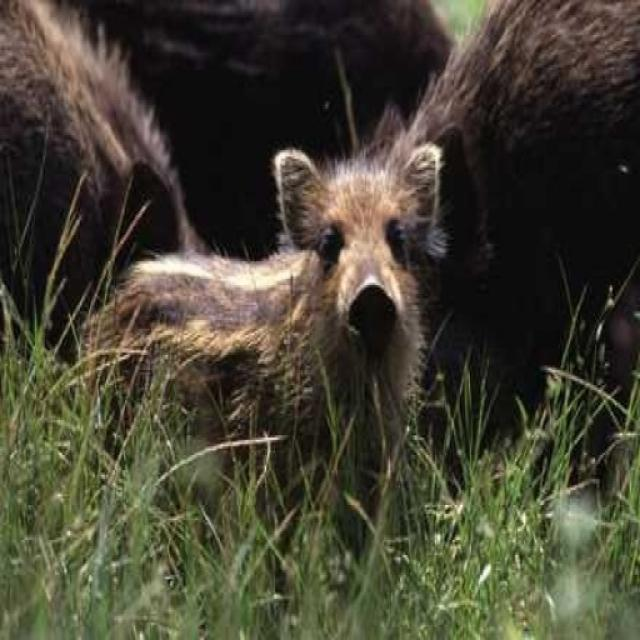pig: (68, 152, 588, 496), (399, 3, 640, 368), (0, 0, 183, 284)
